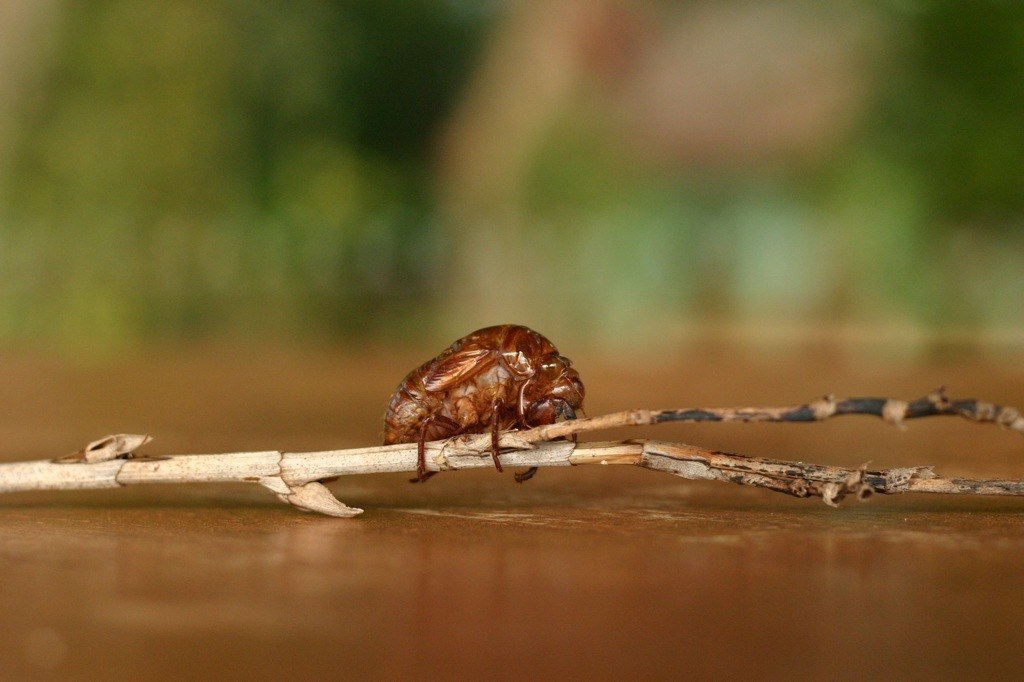insect: (381, 323, 587, 484)
